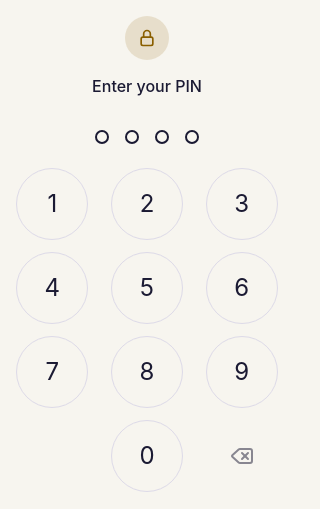
PinEntryForm keypad (T61) › shows progress as dots and supports delete
The width and height of the screenshot is (320, 509).
Click the button "7" at (52, 372), box top-left (16, 336), bottom-right (88, 408)
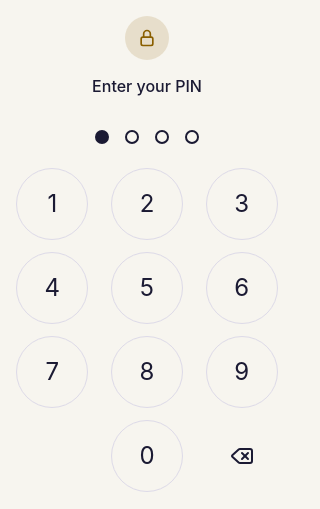
Click the button "8" at (147, 372), box top-left (111, 336), bottom-right (183, 408)
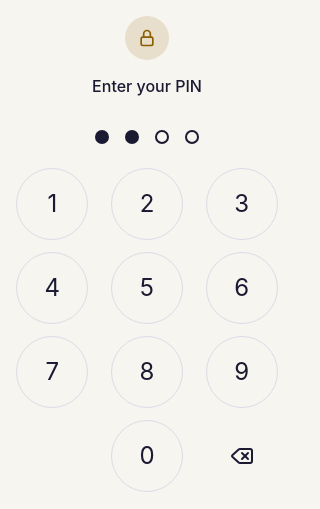
Expected: the picture named "2 of 4 digits entered" is shown, top-left (95, 130), bottom-right (199, 144)
Click the button named "Delete" at (242, 456), box top-left (206, 420), bottom-right (278, 492)
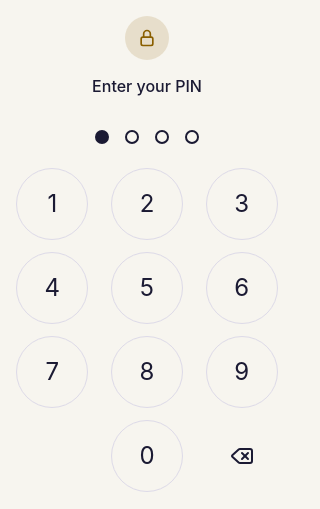
Expected: the picture named "1 of 4 digits entered" is shown, top-left (95, 130), bottom-right (199, 144)
